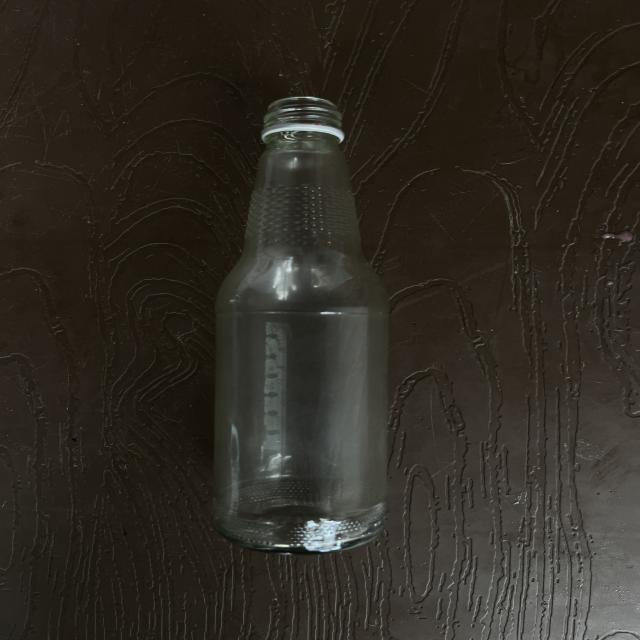Glass_Bottle: (214, 97, 387, 553)
